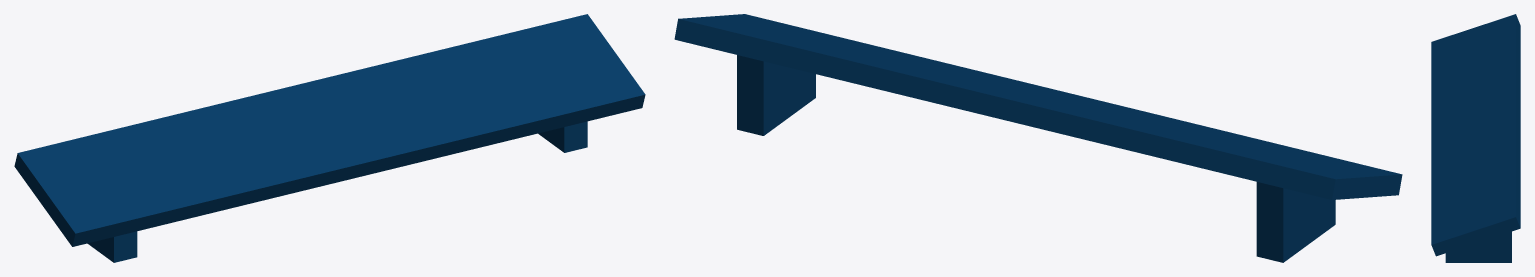
The model's file is MY_Shelf.fbx.
3 renders of one model, left to right at view 1: azimuth 30°, elevation 25°; view 2: azimuth 150°, elevation 25°; view 3: azimuth 270°, elevation 25°, orthographic. The views are drawn at different scales.
Parts seen in each view (by area): view 1: Shelf001; view 2: Shelf001; view 3: Shelf001.
Part boxes in pixels (x1=…): Shelf001: x1=14, y1=14, x2=645, y2=262; Shelf001: x1=674, y1=14, x2=1402, y2=262; Shelf001: x1=1431, y1=14, x2=1520, y2=262.
Size of the model in its own units: 79.77 by 11.55 by 14.81.
